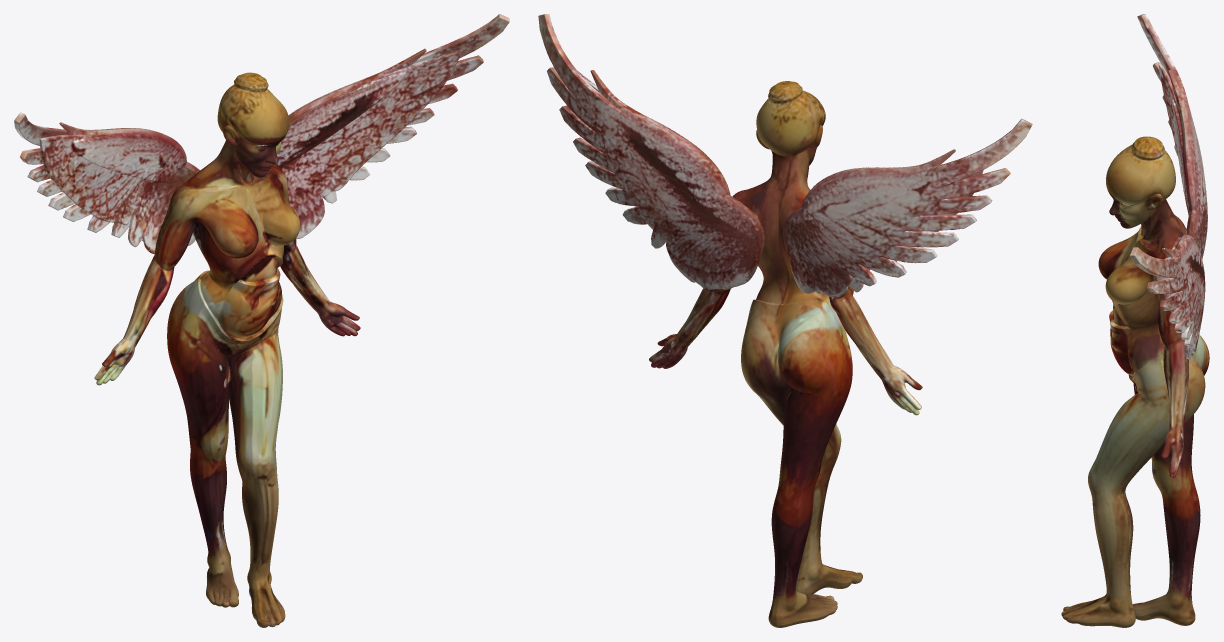
The model's file is angel.glb.
The picture shows the model from 3 angles, left to right: view 1: azimuth 30°, elevation 25°; view 2: azimuth 150°, elevation 25°; view 3: azimuth 270°, elevation 25°; orthographic projection. The views are drawn at different scales.
Visible parts, largest first — view 1: material; view 2: material; view 3: material.
Part boxes in pixels (left/top/right/bottom): material: left=14, top=14, right=509, bottom=627; material: left=538, top=14, right=1032, bottom=627; material: left=1061, top=14, right=1209, bottom=627.
Size of the model in its own units: 0.8373 by 0.8756 by 0.2307.
1 material, 1 textured.
